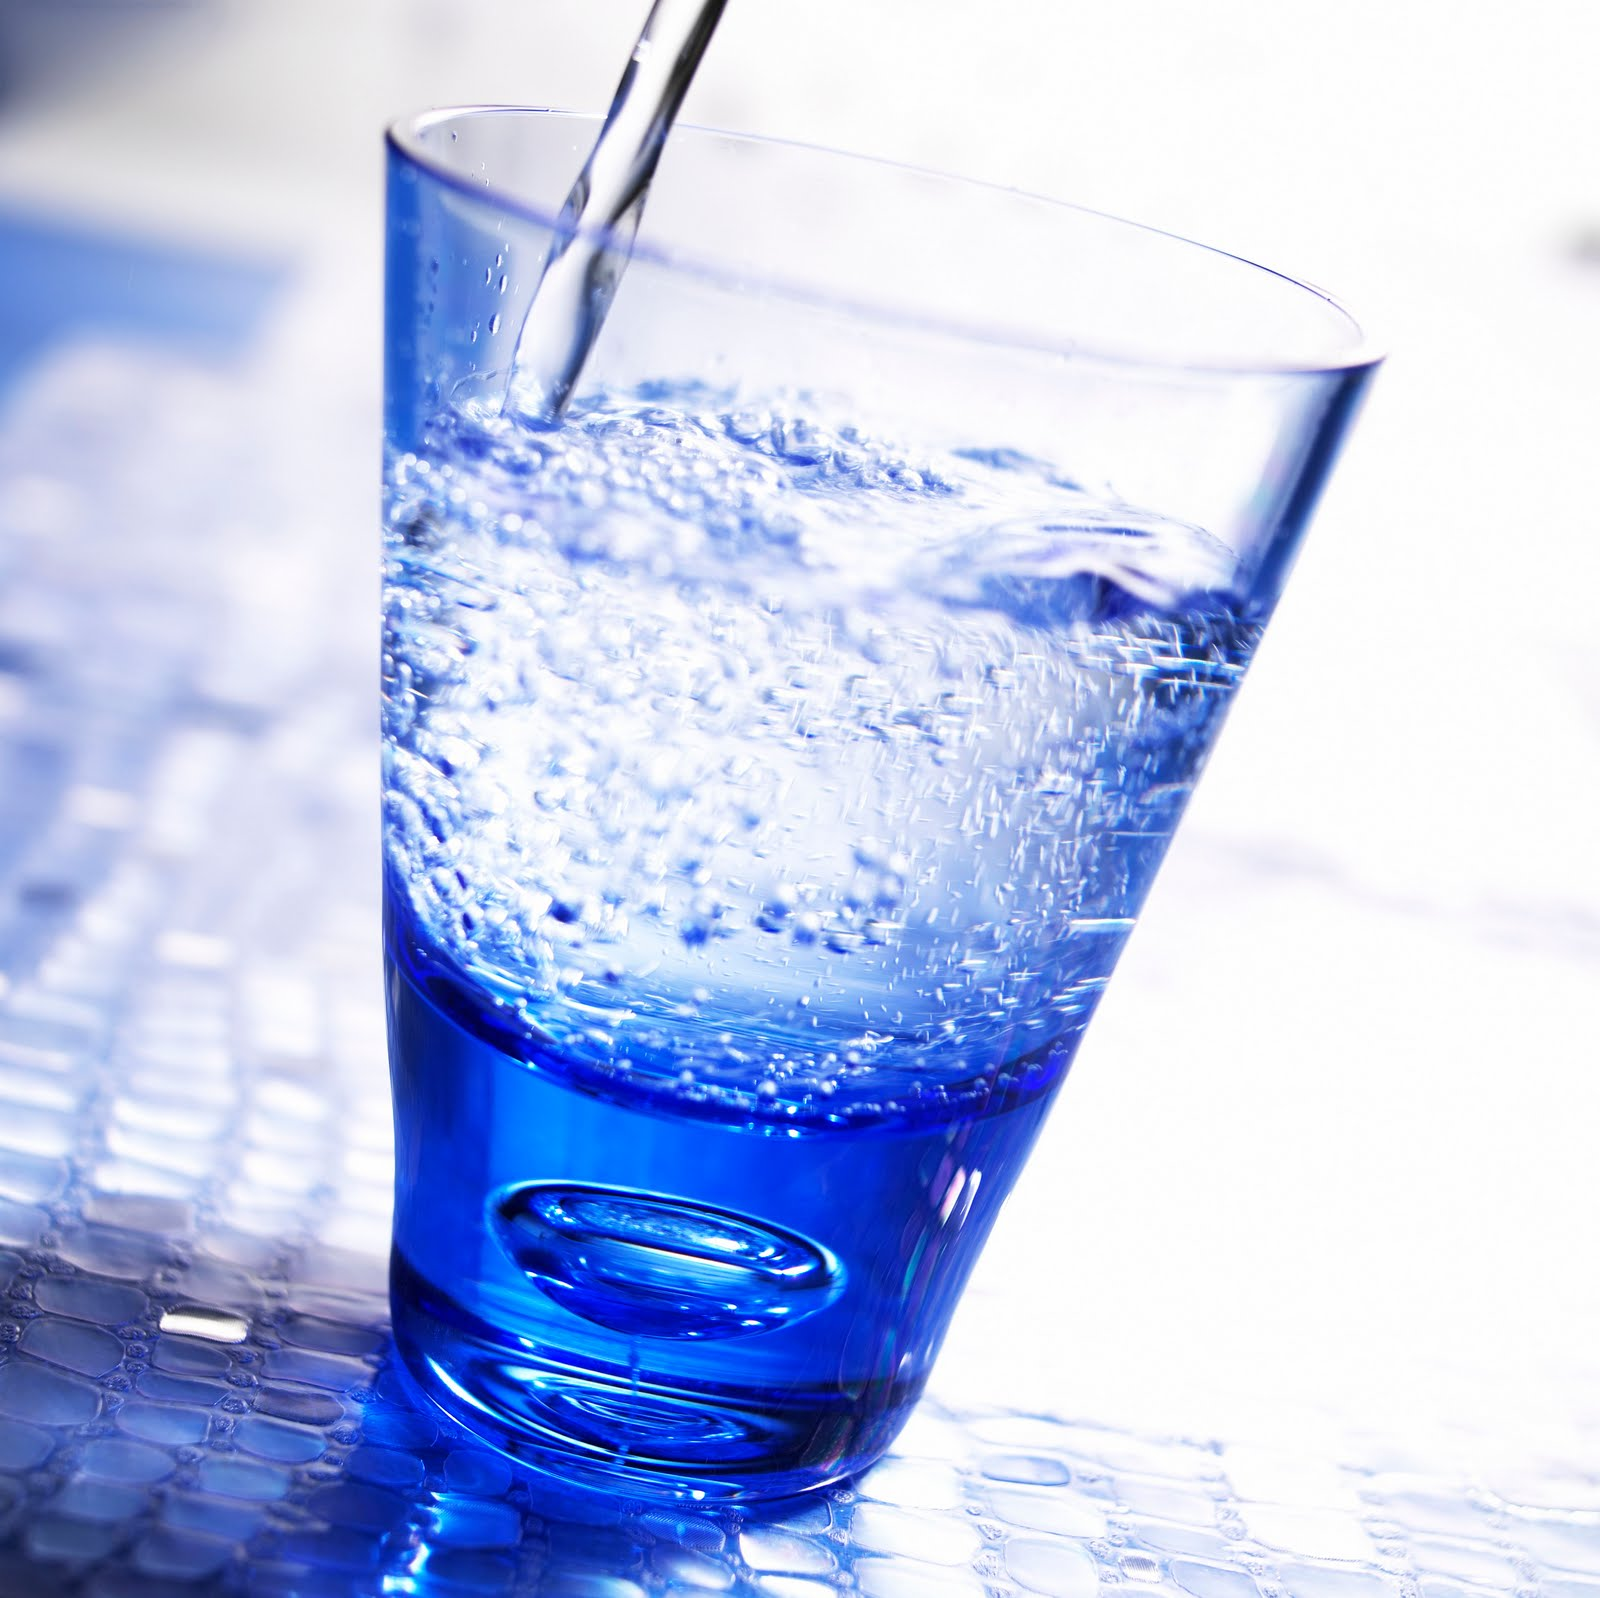glass of water: (452, 236, 1055, 1299)
